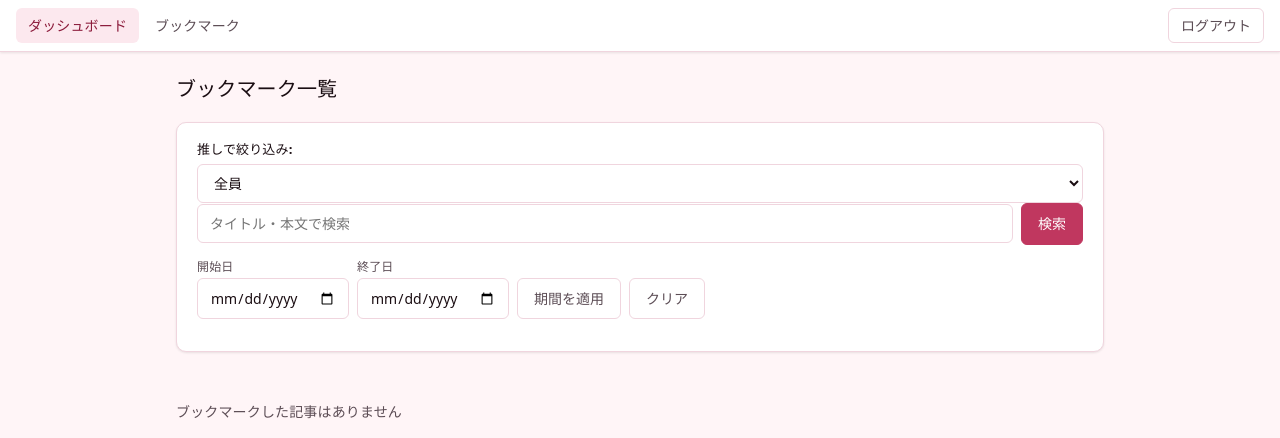
Test case: BookmarkPage › 絞り込み後に0件のとき「条件に一致するブックマークがありません」が表示される
Type "テストクエリ" into the search field at (605, 224), box [197,204,1013,244]
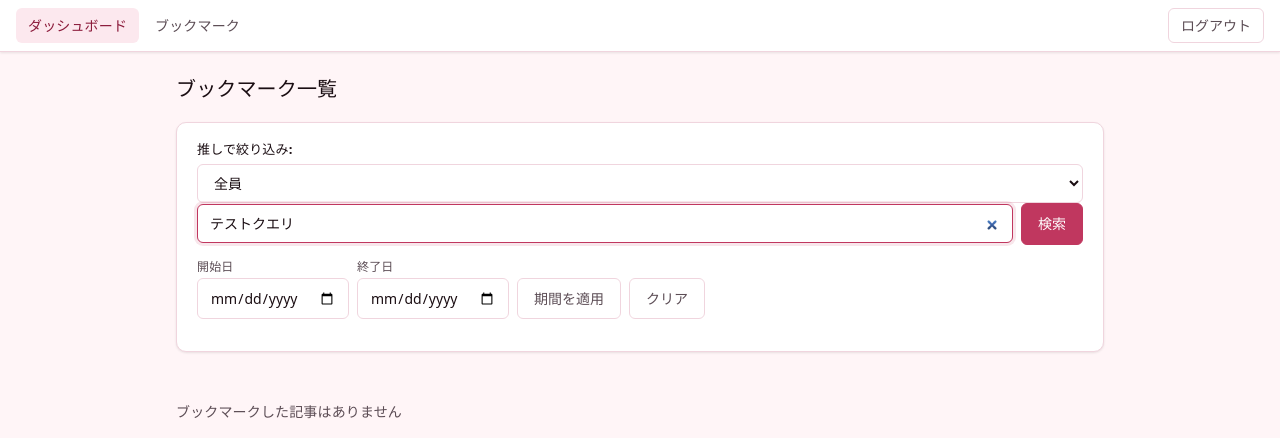
Click the button "検索" at (1052, 224), box [1021,203,1083,244]
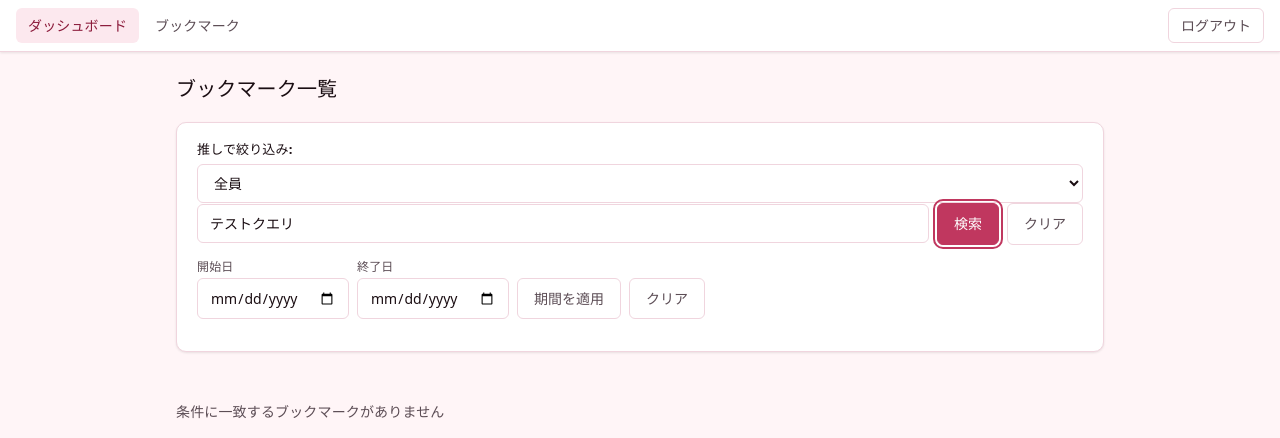
Check: the text "条件に一致するブックマークがありません" is shown, box [176,402,444,421]
